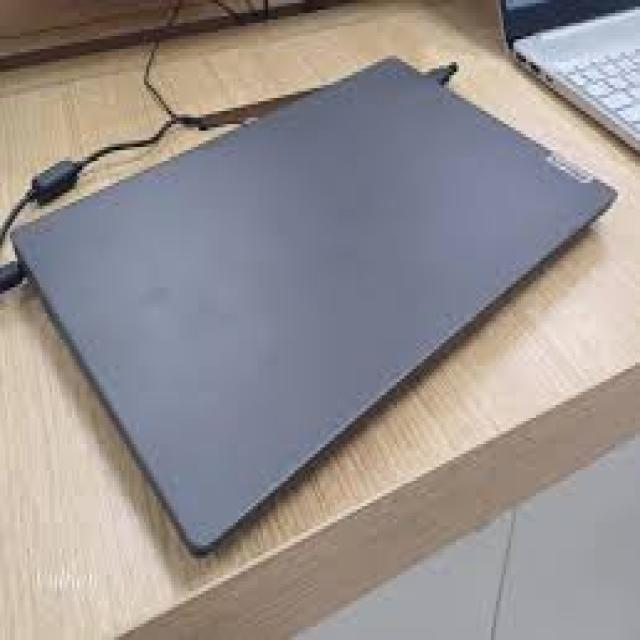laptop: (6, 57, 619, 560)
